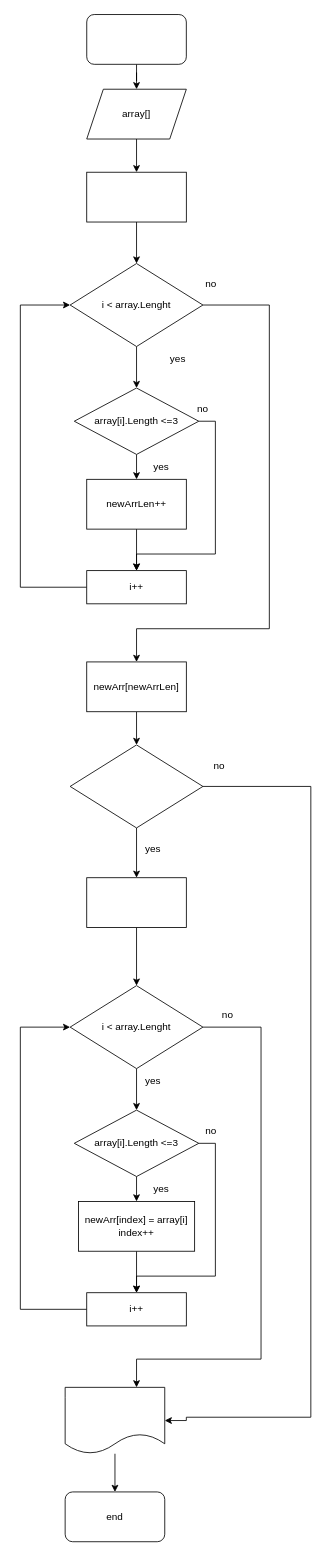
Some shapes in this 332 by 1556 pixel diagram are drawn without their labels. The centre of each missing label's shape, as x and y in pixels:
"index = 0 i = 0" belongs at pixel 136 902.
"newArr[]" belongs at pixel 114 1420.
"newArrLen = 0 i = 0" belongs at pixel 136 196.
"newArrLen > 0" belongs at pixel 136 786.
"start" belongs at pixel 136 39.
